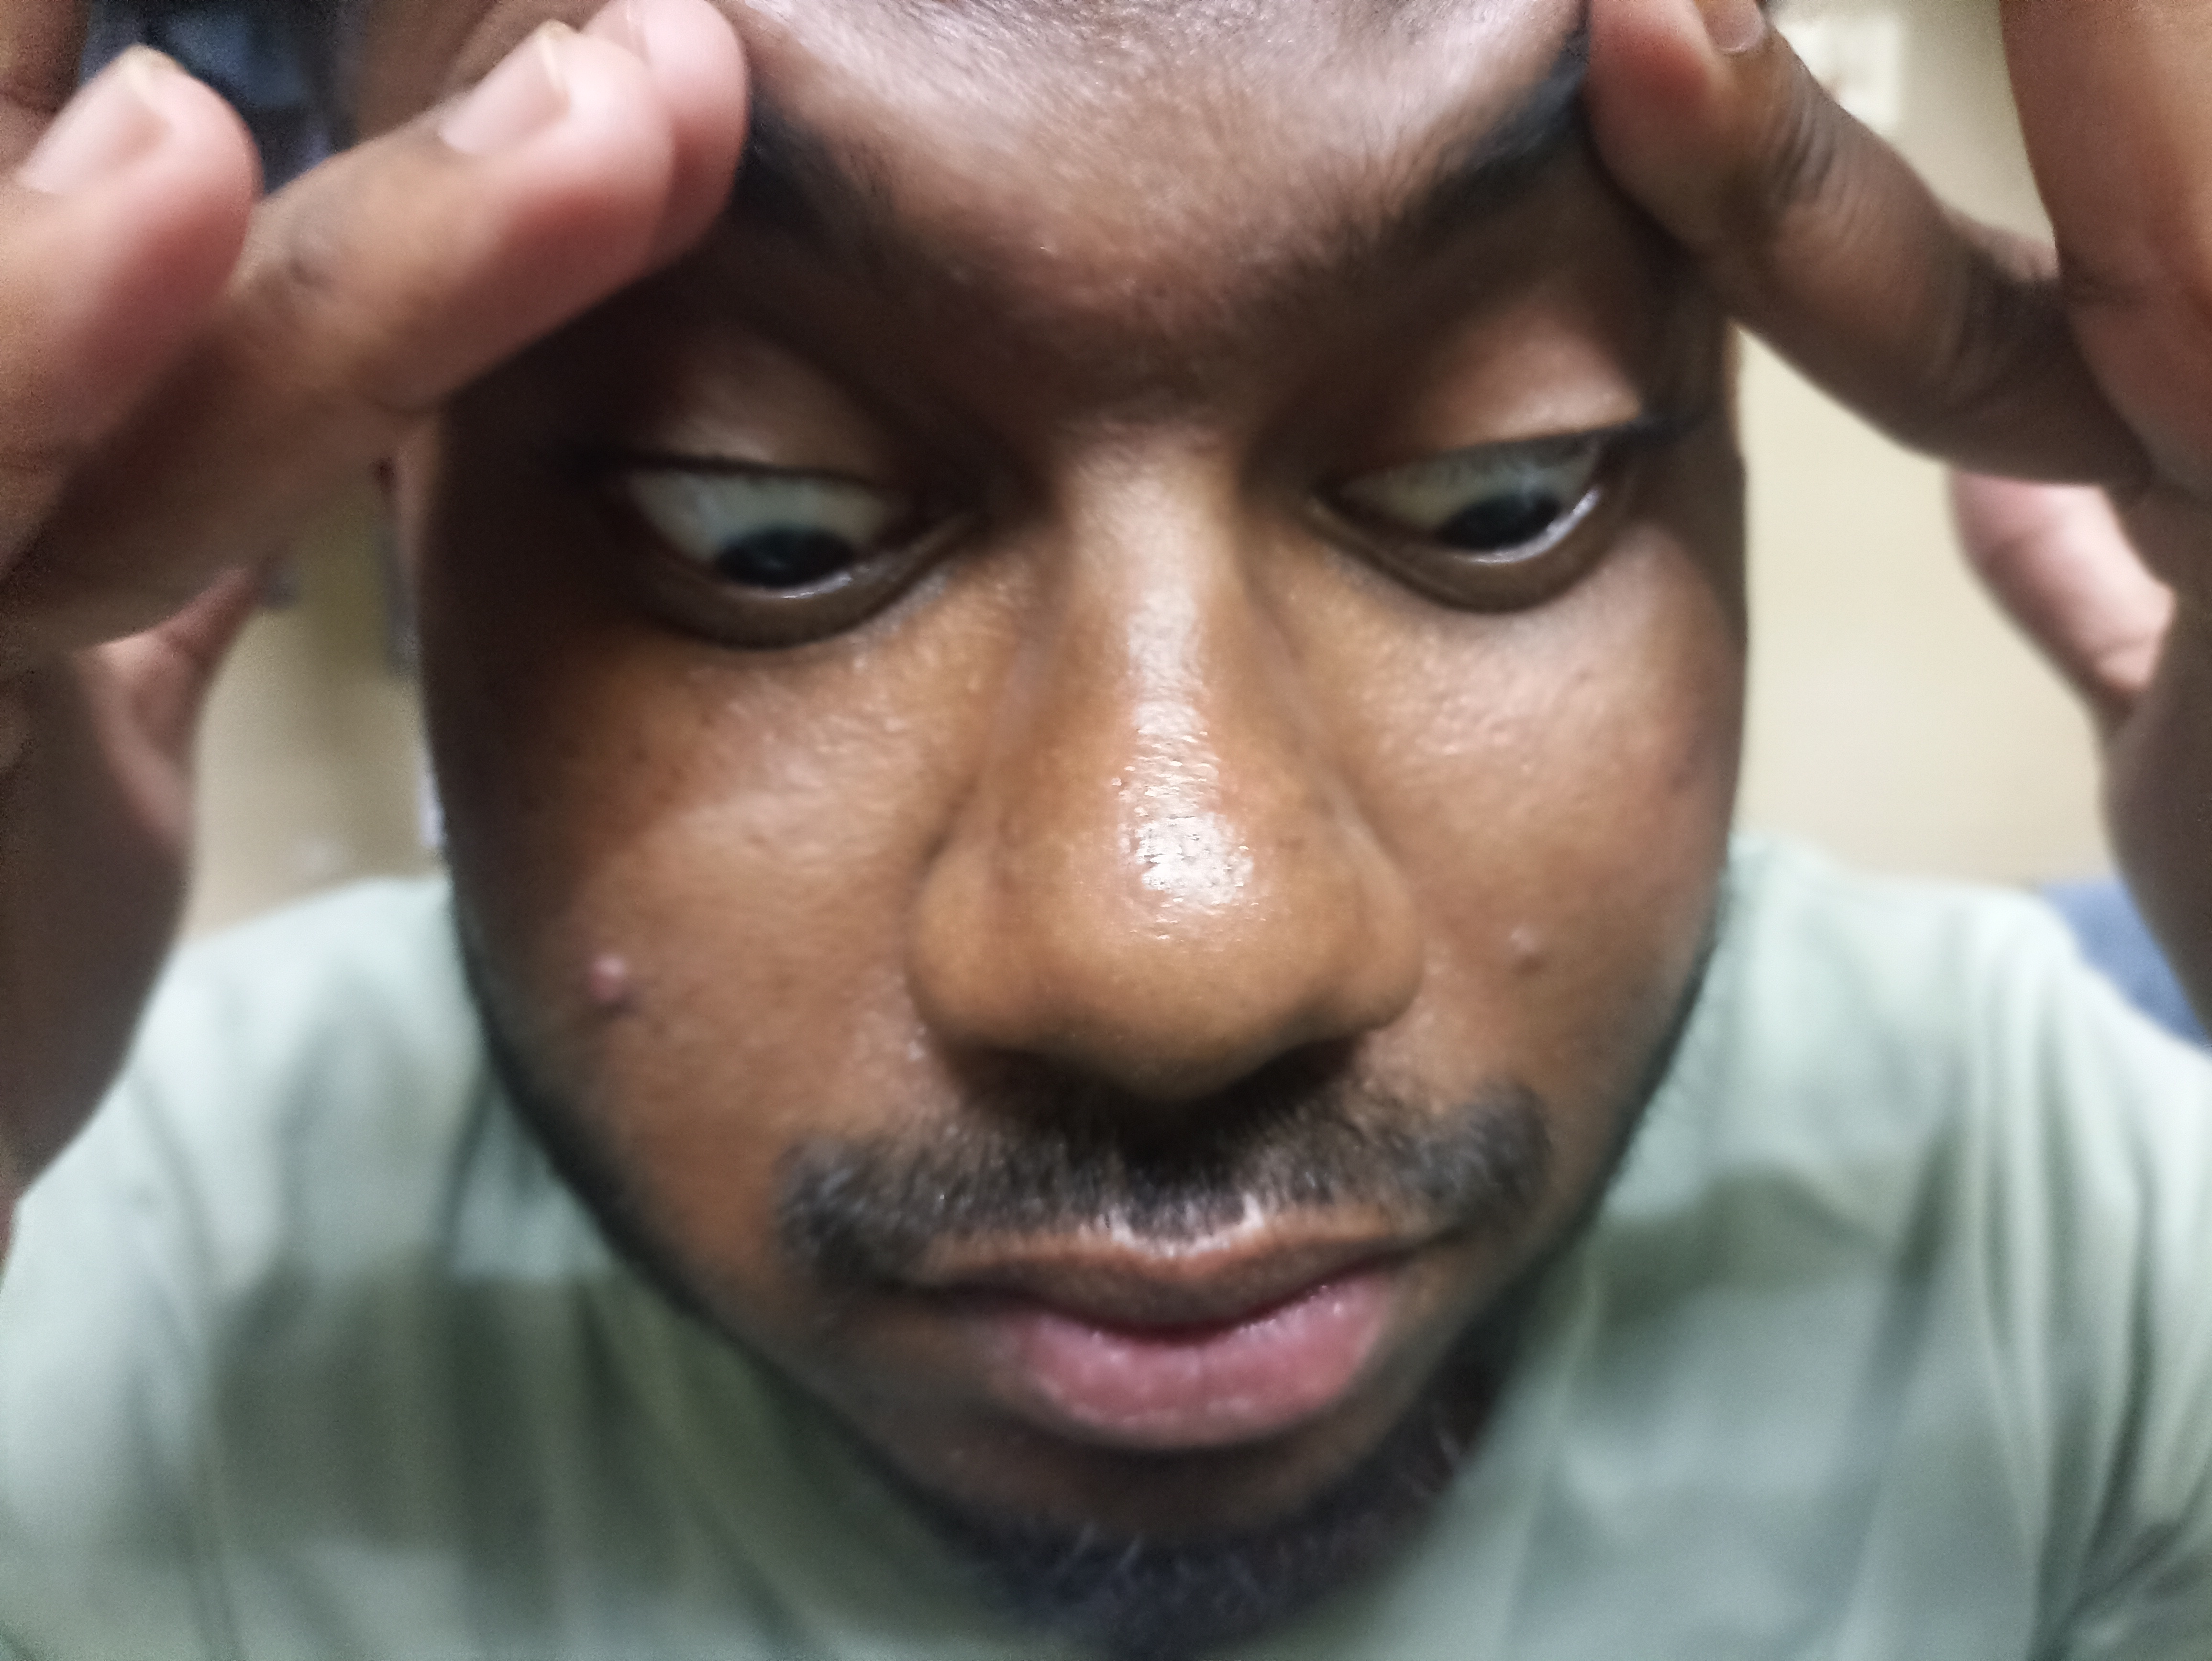EYE DOWN: (328, 220, 1069, 815), (1151, 225, 1846, 829)
